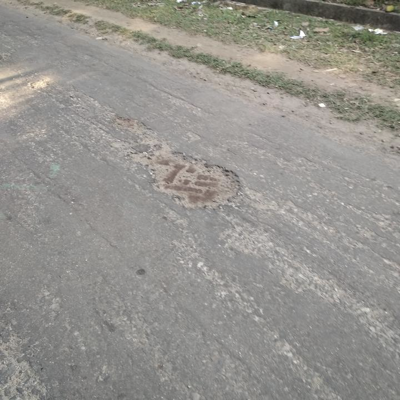pothole: (135, 145, 243, 211), (113, 116, 148, 134)
